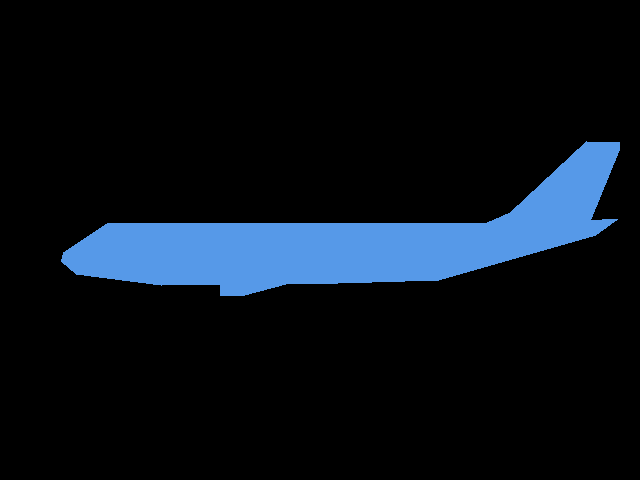Airplane: (61, 141, 620, 295)
